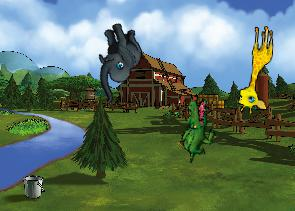crocodile: (171, 96, 222, 163)
elephant: (77, 17, 157, 104)
giraffe: (236, 23, 274, 115)
